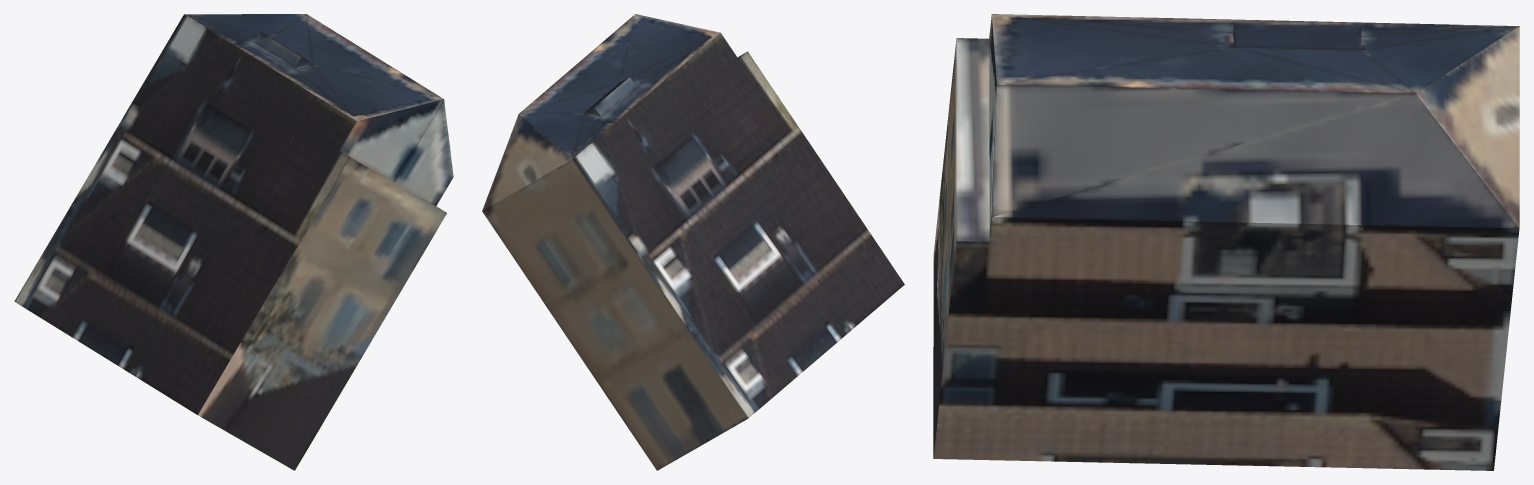
3 renders of one model, left to right at view 1: azimuth 30°, elevation 25°; view 2: azimuth 150°, elevation 25°; view 3: azimuth 270°, elevation 25°, orthographic. The views are drawn at different scales.
Parts seen in each view (by area): view 1: BAG_0599100000688707 (×4); view 2: BAG_0599100000688707 (×4); view 3: BAG_0599100000688707 (×4).
Part boxes in pixels (x1,y1,x2,y2): BAG_0599100000688707 (×4): [14, 14, 453, 470]; BAG_0599100000688707 (×4): [482, 14, 904, 470]; BAG_0599100000688707 (×4): [933, 14, 1519, 470].
Size of the model in its own units: 11.14 by 12.5 by 12.47.
Materials: 1 (1 with a texture image).
